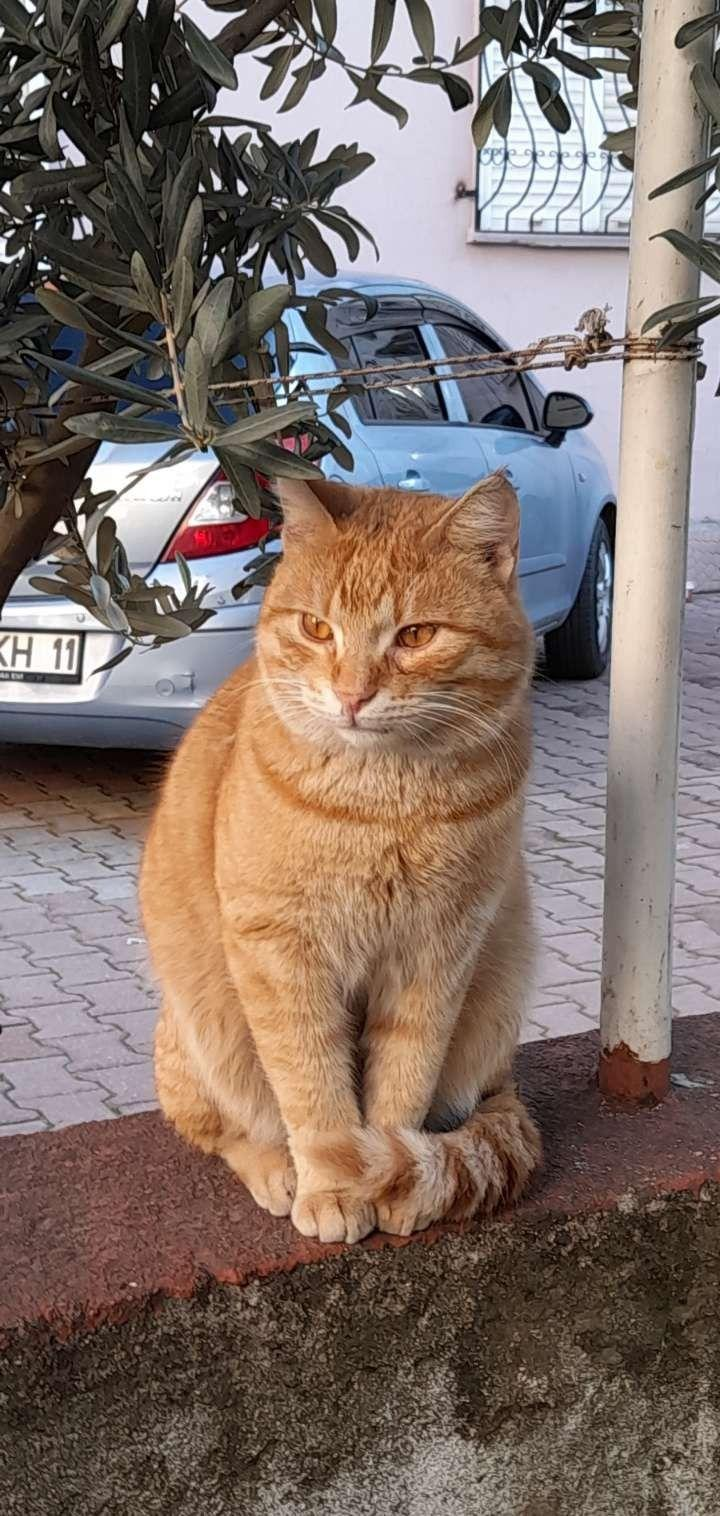kedo: (140, 464, 537, 1243)
